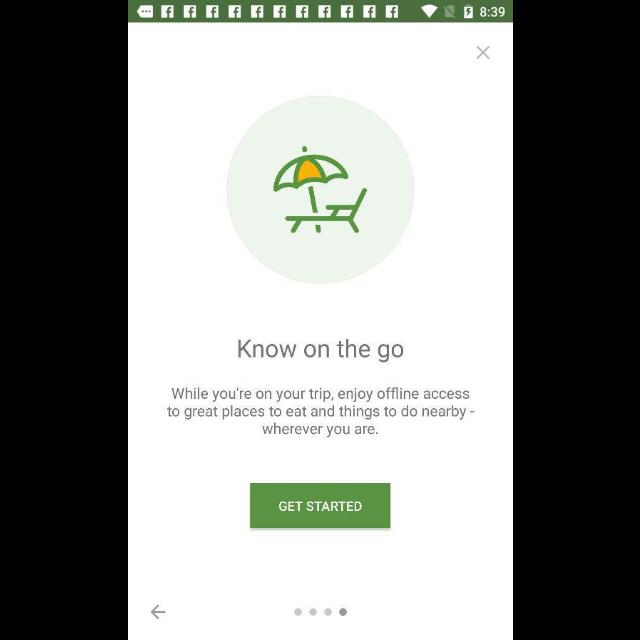icon: (150, 604, 166, 620), (476, 46, 490, 60)
image: (226, 96, 414, 284)
pageindicator: (293, 608, 347, 616)
text: (166, 386, 474, 438), (237, 338, 403, 364)
textbutton: (250, 484, 390, 528)
uppertaskbar: (128, 1, 512, 23)
